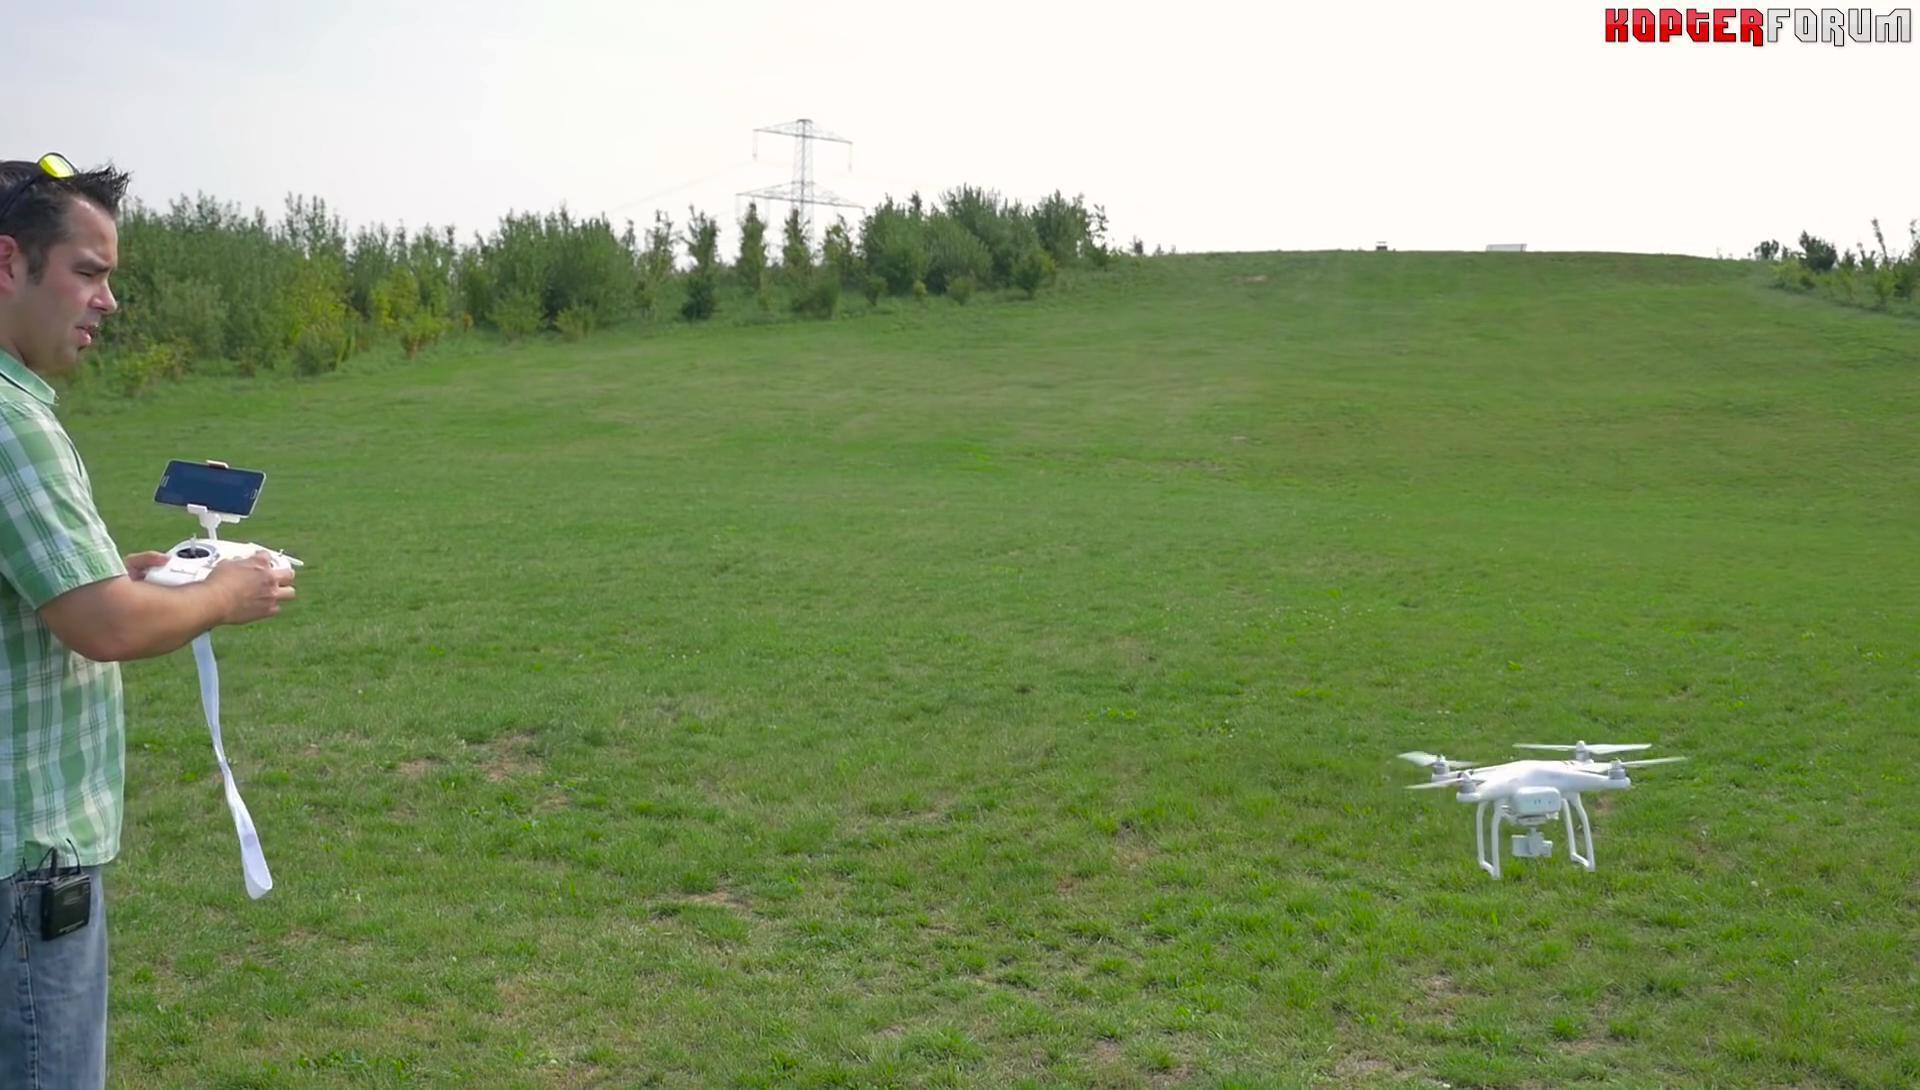drone: (1396, 734, 1687, 876)
